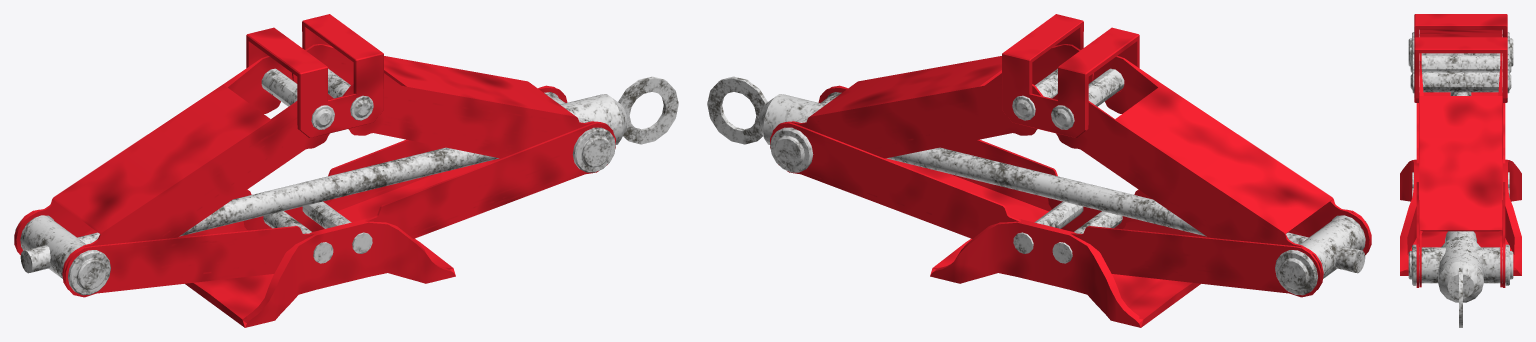
File: Car Jack 2 Folded_Baked 1k.fbx
3 views of the same model, side by side, from view 1: azimuth 30°, elevation 25°; view 2: azimuth 150°, elevation 25°; view 3: azimuth 270°, elevation 25° (orthographic). The views are drawn at different scales.
Parts seen in each view (by area): view 1: Car Jack 2 Folded_Baked 1k; view 2: Car Jack 2 Folded_Baked 1k; view 3: Car Jack 2 Folded_Baked 1k.
Part boxes in pixels (bbox=[...]): Car Jack 2 Folded_Baked 1k: bbox=[14, 14, 678, 327]; Car Jack 2 Folded_Baked 1k: bbox=[707, 14, 1371, 327]; Car Jack 2 Folded_Baked 1k: bbox=[1400, 14, 1521, 327].
Size of the model in its own units: 84.99 by 29.04 by 16.02.
